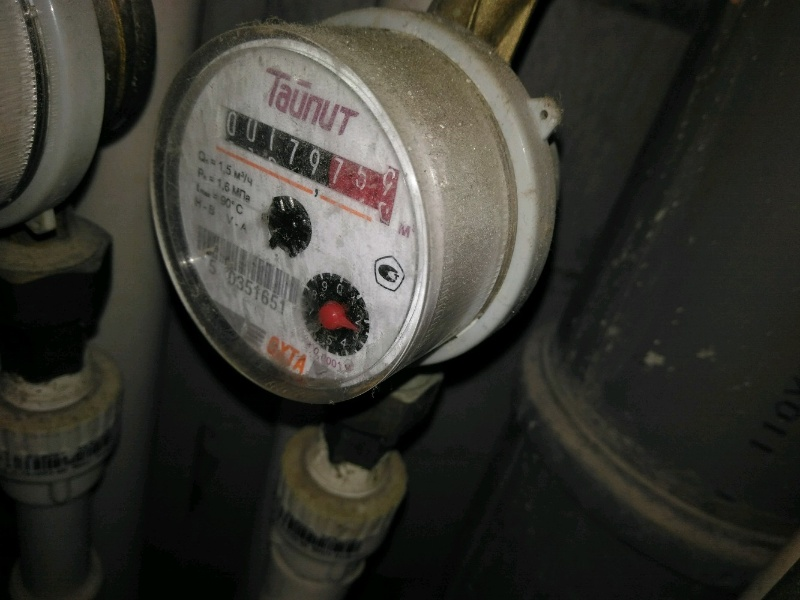meter: (215, 111, 394, 208)
